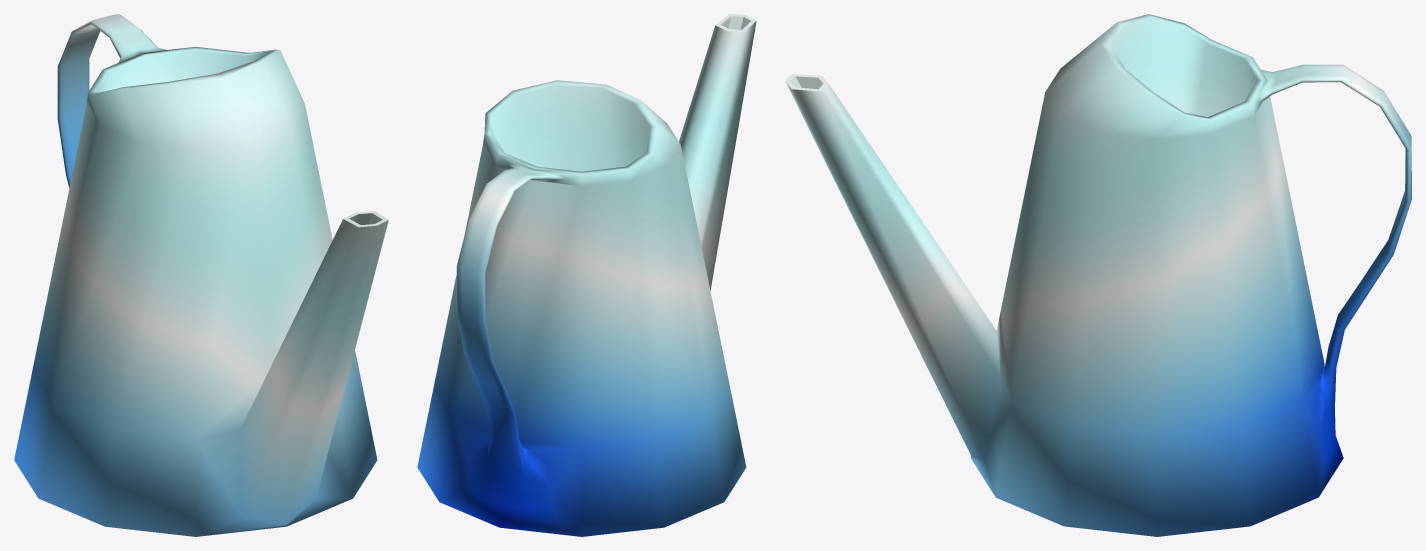
Rendered from 澆水器.FBX.
The picture shows the model from 3 angles, left to right: view 1: azimuth 30°, elevation 25°; view 2: azimuth 150°, elevation 25°; view 3: azimuth 270°, elevation 25°; orthographic projection. The views are drawn at different scales.
Visible parts, largest first — view 1: Cylinder001; view 2: Cylinder001; view 3: Cylinder001.
Part boxes in pixels (left/top/right/bottom): Cylinder001: left=14, top=14, right=388, bottom=536; Cylinder001: left=417, top=14, right=756, bottom=536; Cylinder001: left=785, top=14, right=1411, bottom=536.
Bounding box in the file's own units: 20 × 24.47 × 33.61.
Materials: 1 (1 with a texture image).
